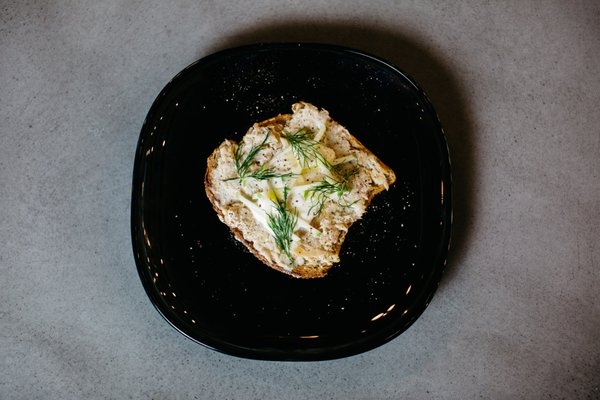sandwich: (204, 99, 397, 278)
